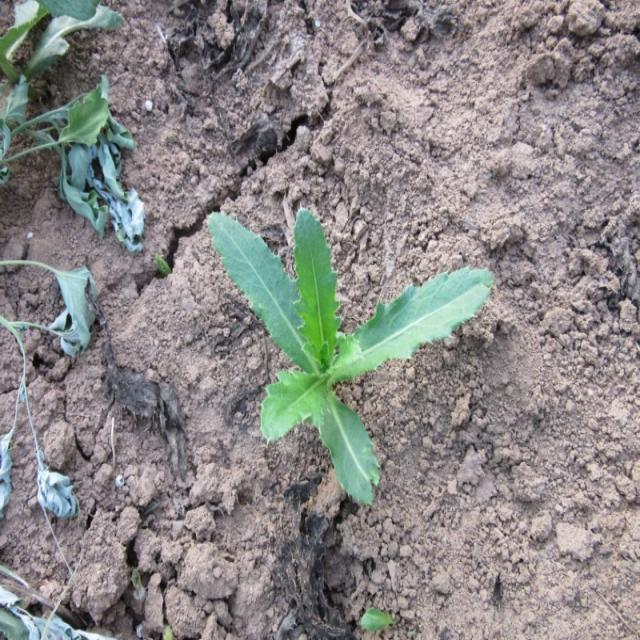cs: (203, 206, 496, 510)
